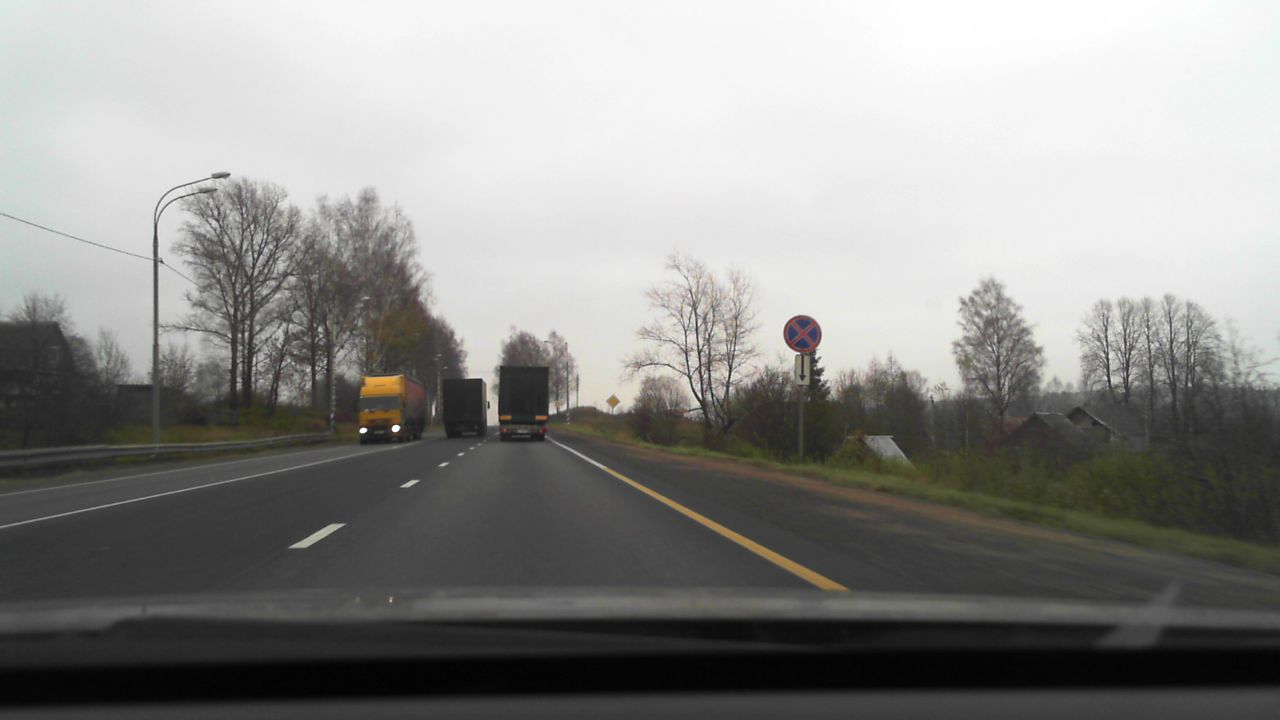No Parking: (783, 314, 822, 352)
